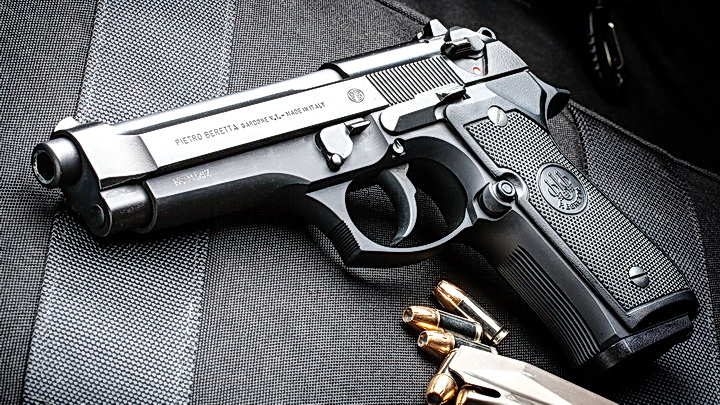gun: (14, 13, 713, 389)
